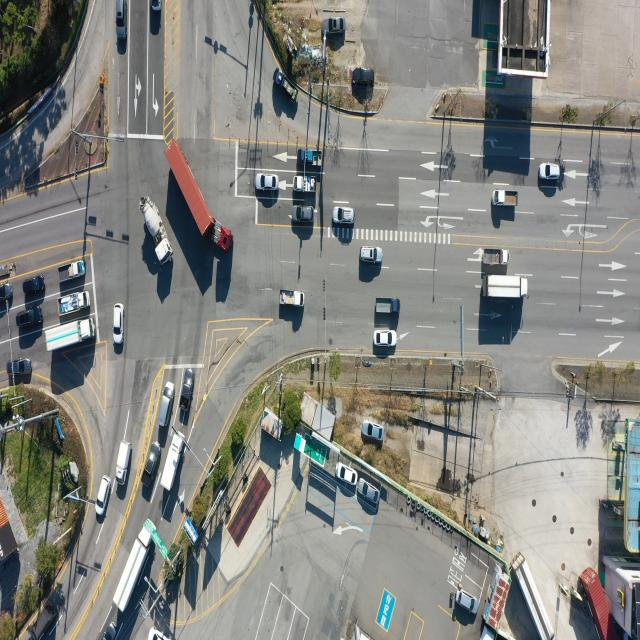car: (180, 368, 194, 422), (95, 474, 112, 516), (160, 380, 175, 427), (458, 587, 481, 613), (15, 307, 42, 329), (358, 480, 379, 506), (144, 442, 159, 478), (337, 462, 358, 485), (22, 276, 46, 296), (9, 357, 32, 377), (113, 304, 124, 345), (362, 421, 384, 441), (351, 67, 375, 85), (538, 163, 561, 181), (116, 0, 126, 41), (334, 207, 356, 224), (361, 246, 383, 263), (374, 332, 397, 348), (257, 174, 279, 190), (293, 206, 313, 223), (326, 18, 345, 35), (148, 625, 169, 640), (103, 618, 117, 640), (0, 282, 13, 303)
large_truck: (166, 143, 232, 254)
medium_truck: (116, 518, 157, 614), (518, 551, 557, 638), (46, 318, 96, 356), (143, 198, 172, 263), (158, 432, 184, 495), (483, 276, 529, 300)
small_truck: (32, 603, 57, 640), (274, 67, 298, 103), (57, 260, 86, 286), (60, 289, 90, 314), (115, 440, 130, 482), (481, 250, 510, 269), (494, 188, 519, 207), (300, 148, 324, 166), (278, 290, 303, 307), (375, 299, 400, 316), (295, 175, 317, 194), (481, 624, 499, 640), (151, 0, 160, 12)
